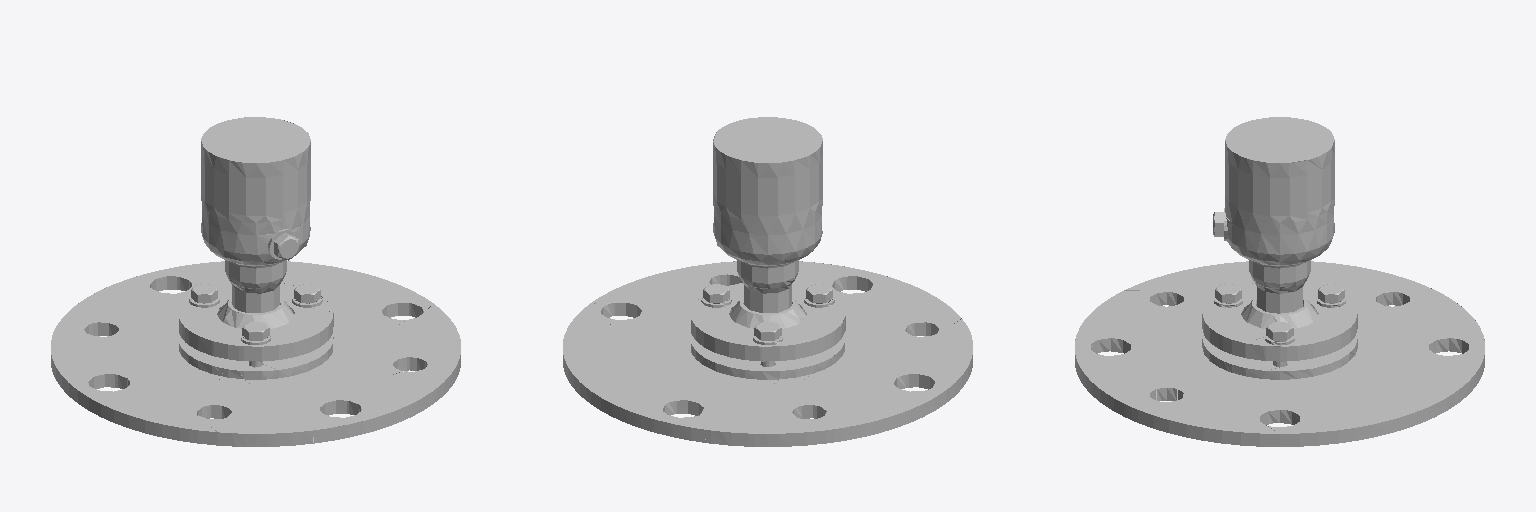
File: blender-flange_14-b7-5000.obj
3 renders of one model, left to right at view 1: azimuth 30°, elevation 25°; view 2: azimuth 150°, elevation 25°; view 3: azimuth 270°, elevation 25°, orthographic.
Visible parts, largest first — view 1: flange_14-b7; view 2: flange_14-b7; view 3: flange_14-b7.
Boxes of the visible parts, box(x1,y1,x2,y2) form: flange_14-b7: box(51, 117, 460, 446); flange_14-b7: box(563, 117, 972, 446); flange_14-b7: box(1075, 117, 1484, 446).
Bounding box in the file's own units: 225 × 140 × 225.